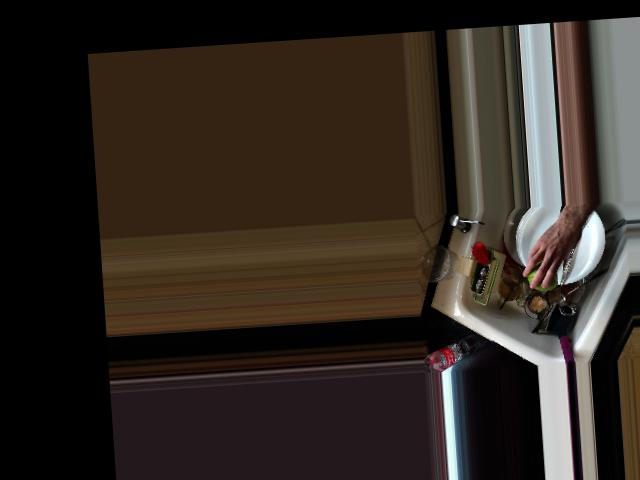apple: (526, 258, 560, 291)
